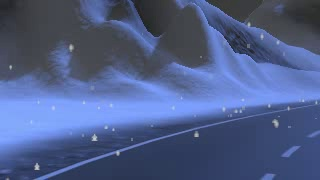Lane: (37, 102, 319, 179)
